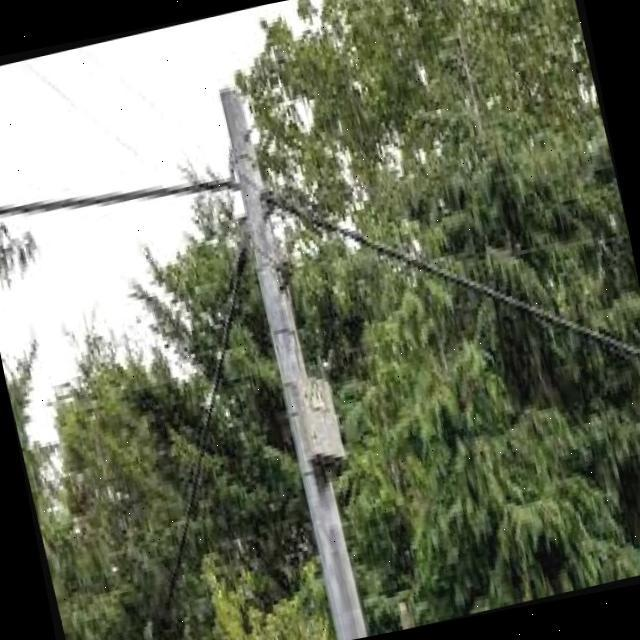critical vegetation: (39, 20, 466, 534)
